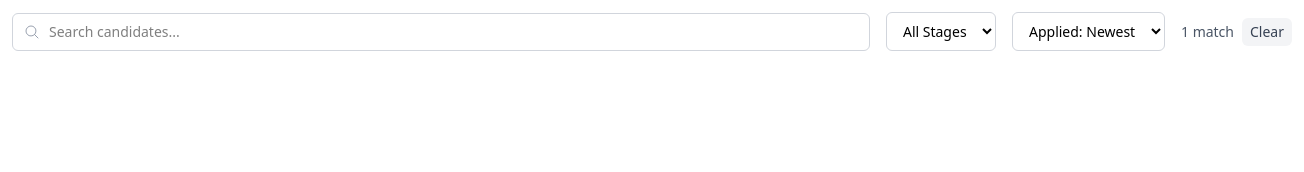
Test: PipelineSearchBar › match count and clear button › clears search, filter, and sort on Clear click
Click the button "Clear" at (1267,32), box [1242, 18, 1292, 46]
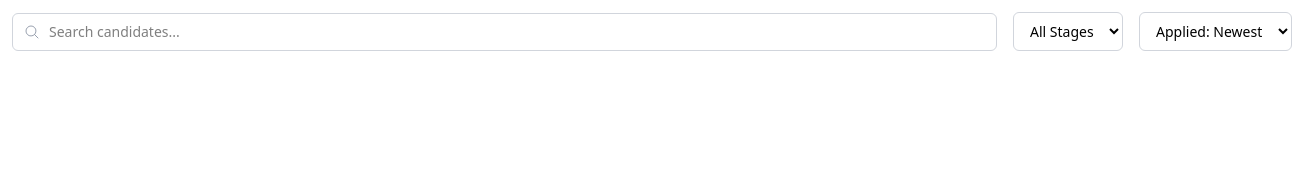
Expected: the field with placeholder "Search candidates..." is empty, [12, 12, 997, 50]
Now the text "match" is gone
Now the button "Clear" is gone
